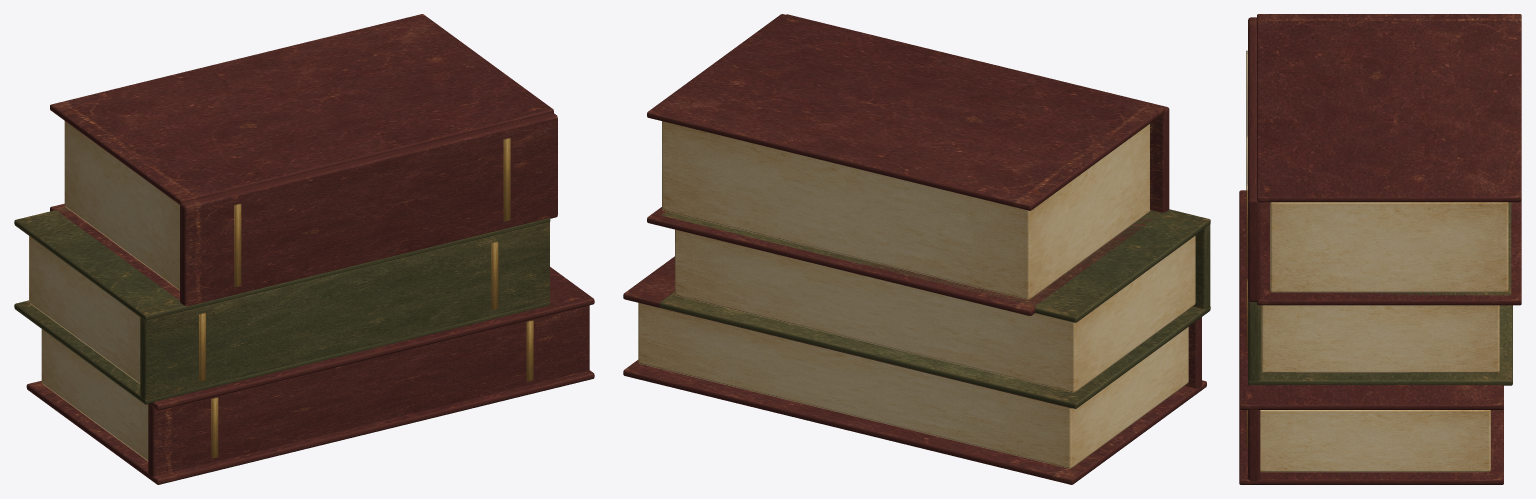
File: SM_MoleControlV2_BookSet.fbx
3 views of the same model, side by side, from view 1: azimuth 30°, elevation 25°; view 2: azimuth 150°, elevation 25°; view 3: azimuth 270°, elevation 25° (orthographic). The views are drawn at different scales.
Visible parts, largest first — view 1: SM_MoleControlV2_BookSet; view 2: SM_MoleControlV2_BookSet; view 3: SM_MoleControlV2_BookSet.
Boxes of the visible parts, x1=… form: SM_MoleControlV2_BookSet: x1=14, y1=14, x2=594, y2=484; SM_MoleControlV2_BookSet: x1=623, y1=14, x2=1210, y2=484; SM_MoleControlV2_BookSet: x1=1239, y1=14, x2=1521, y2=484.
Size of what is drawn, in the model's own units: 55 by 30 by 32.
